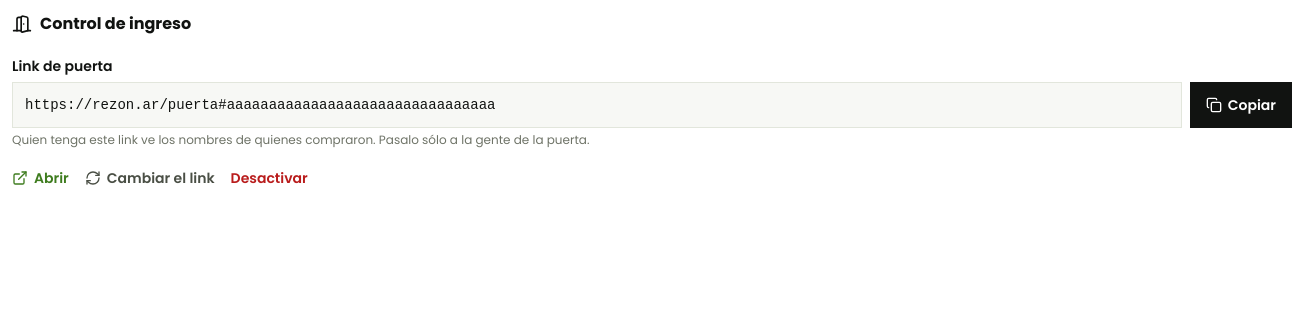
Scenario: LinkDePuerta › desactivar borra el link
Click the button "Desactivar": click(269, 178) [231,168,308,188]
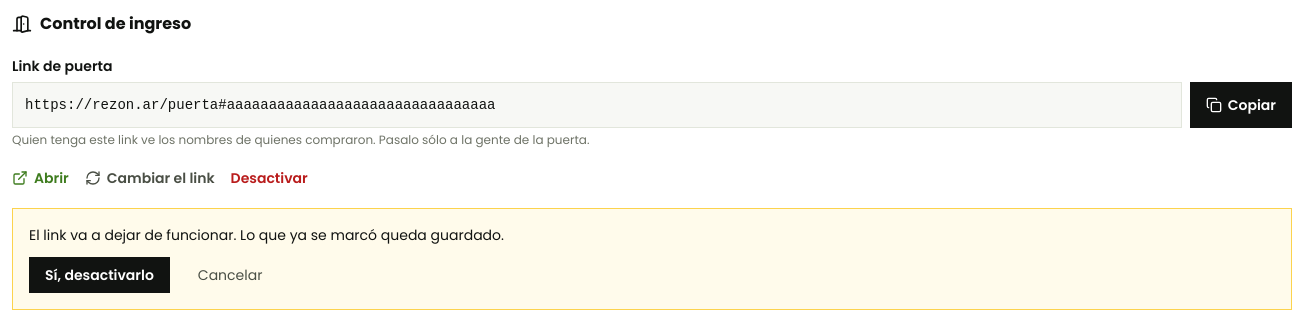
Click the button "Sí, desactivarlo": click(99, 275) [29,257,170,293]
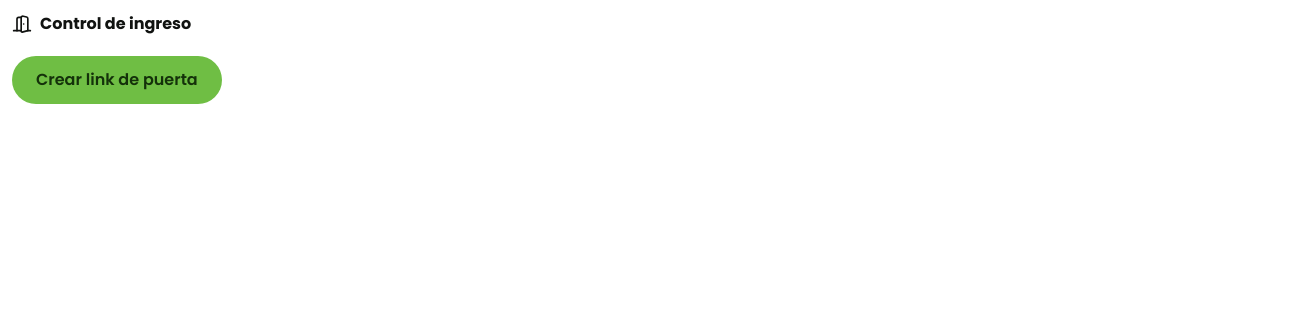
Expected: the button "Crear link de puerta" is shown, [12,56,222,104]
